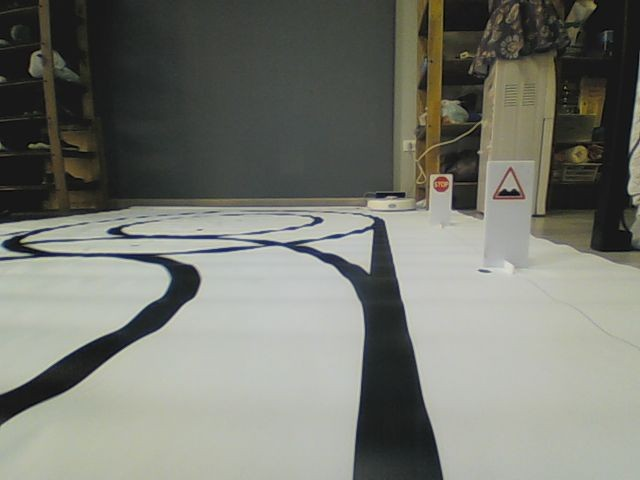Nerov: (492, 166, 525, 200)
Stop: (433, 175, 449, 192)
